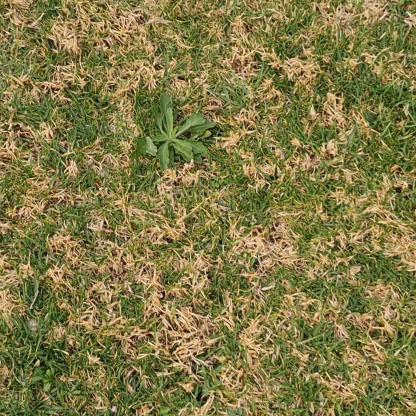Weeds: (129, 90, 218, 173)
